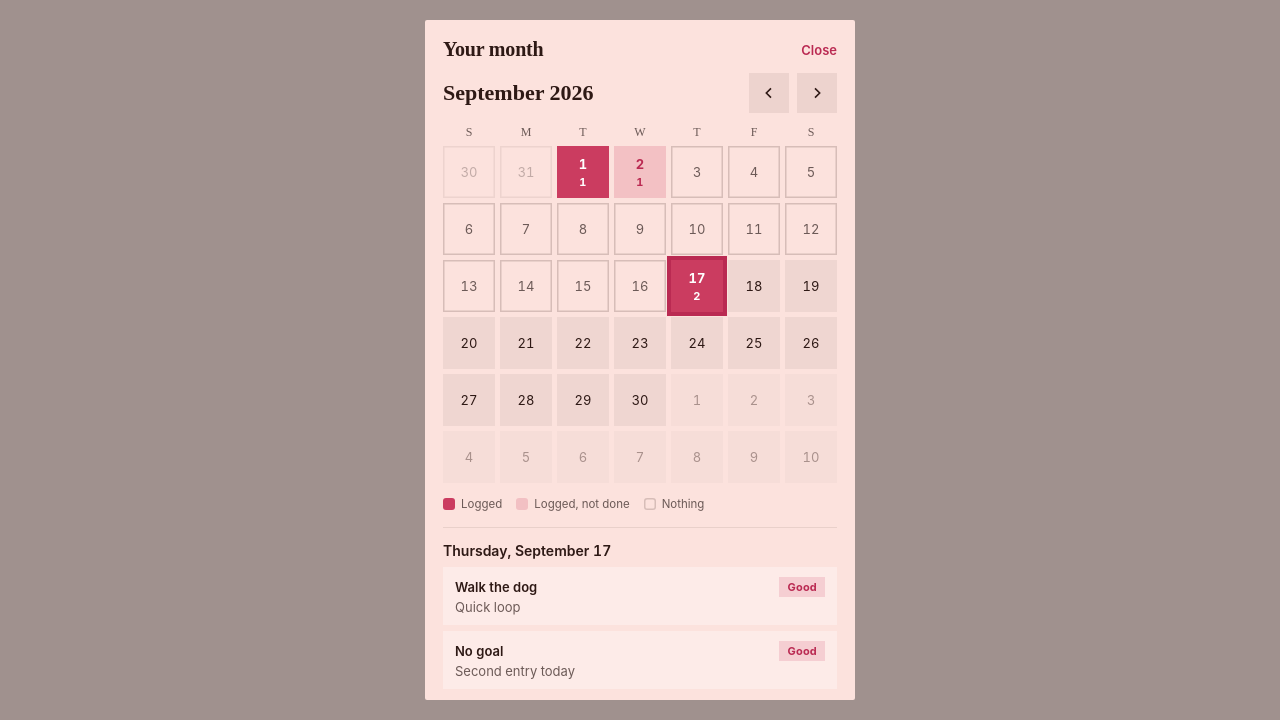
Test: CalendarModal › says so when a day has nothing on it
The image size is (1280, 720).
Click the button named "Friday, September 4, nothing logged": (754, 172) [728,146,780,198]
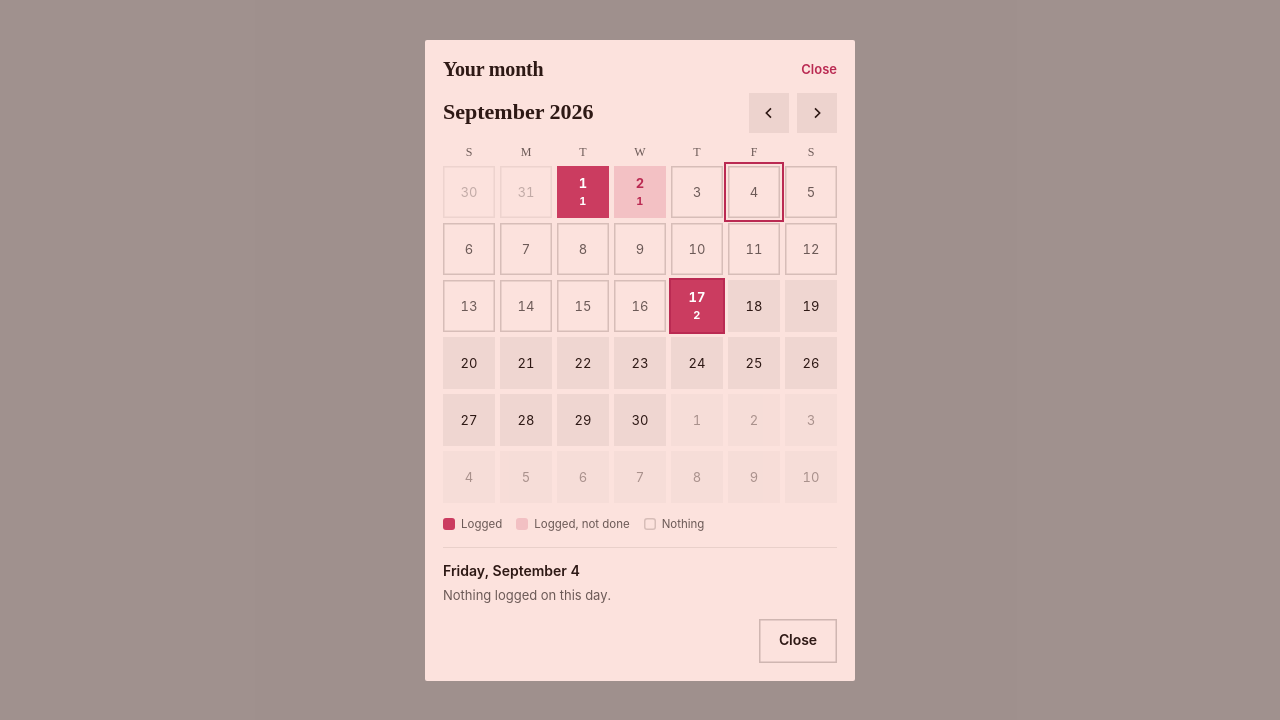
expect the text "Nothing logged on this day." is shown: met, box [443,586,611,602]
